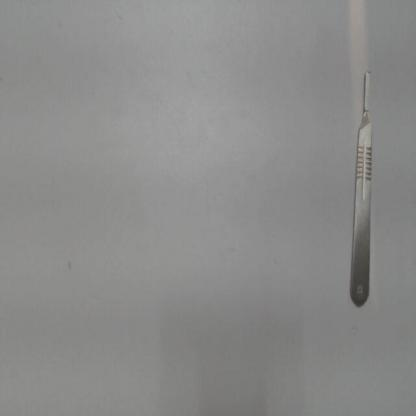No.4 BP Handle: (341, 57, 380, 312)
